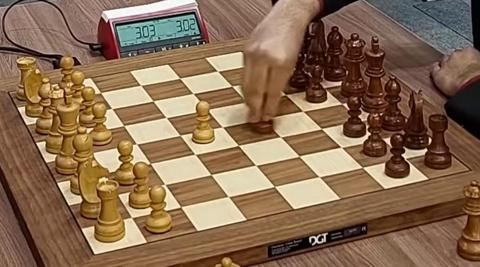xcorner: (246, 60, 256, 70), (145, 96, 155, 106), (63, 111, 73, 121), (239, 97, 249, 107), (273, 132, 283, 142), (376, 134, 386, 144), (111, 189, 121, 199), (174, 202, 184, 212), (282, 54, 292, 63), (209, 67, 219, 76), (171, 74, 181, 83), (93, 88, 103, 97), (53, 95, 63, 104), (316, 83, 326, 92), (278, 90, 288, 99), (199, 105, 209, 114), (74, 129, 84, 138), (335, 99, 345, 108), (296, 106, 305, 116), (256, 114, 265, 124), (215, 122, 224, 132), (231, 141, 241, 150), (98, 168, 108, 177), (292, 152, 302, 161), (204, 170, 214, 179), (158, 180, 168, 189), (399, 154, 409, 163), (313, 172, 322, 182), (133, 81, 142, 90), (299, 68, 308, 77), (262, 75, 271, 84), (224, 82, 233, 91), (185, 89, 194, 98), (105, 104, 114, 113), (159, 113, 168, 122), (117, 121, 126, 130), (173, 131, 182, 140), (130, 139, 139, 148), (86, 148, 95, 157), (355, 116, 364, 125), (315, 124, 324, 133), (188, 150, 197, 159), (144, 159, 153, 168), (335, 143, 344, 152), (249, 161, 258, 170), (357, 163, 366, 172), (268, 182, 277, 191), (222, 192, 231, 201), (126, 213, 135, 222)
